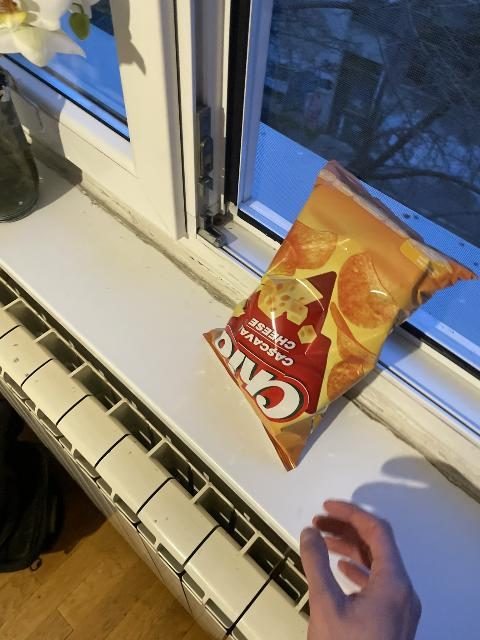Chio Cascaval 125g: (201, 156, 477, 472)
